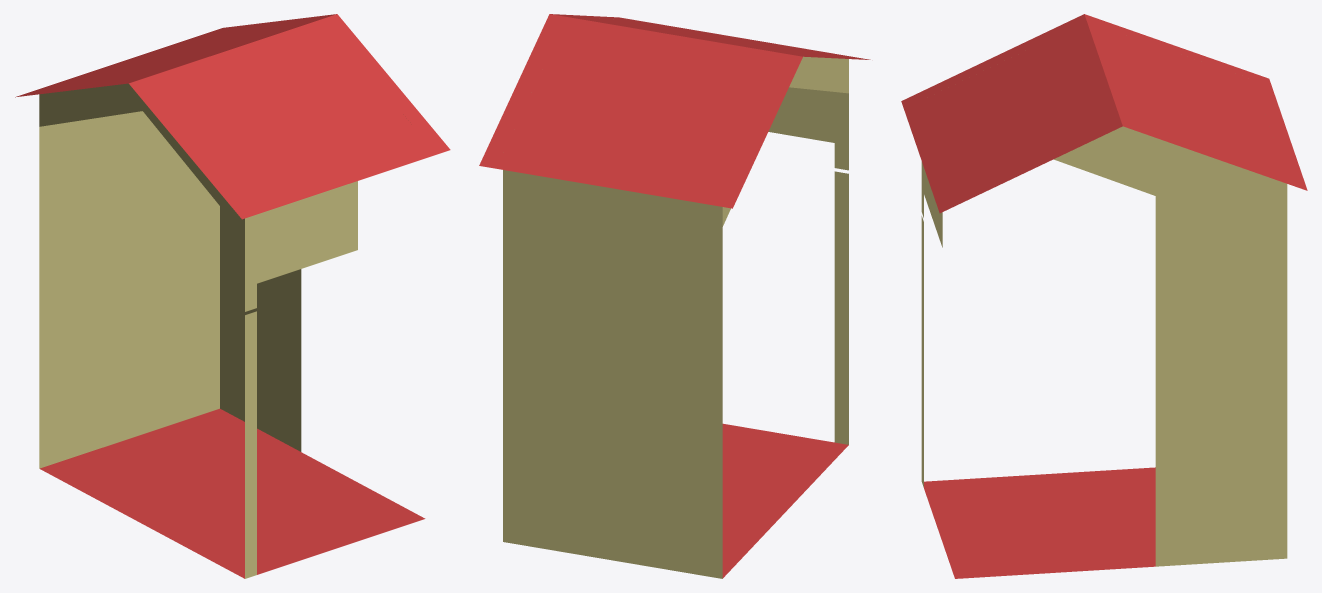
3 renders of one model, left to right at view 1: azimuth 30°, elevation 25°; view 2: azimuth 150°, elevation 25°; view 3: azimuth 270°, elevation 25°, orthographic. The views are drawn at different scales.
Size of the model in its own units: 8.84 by 11.26 by 13.75.
